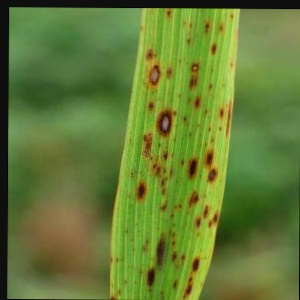Bacterial_Leaf_Blight: (153, 229, 169, 270), (222, 94, 235, 144), (153, 109, 174, 139), (131, 177, 151, 207), (147, 61, 163, 91), (185, 187, 204, 211), (140, 131, 155, 161), (143, 264, 158, 293), (186, 155, 199, 183), (201, 146, 216, 170), (181, 281, 196, 300), (208, 39, 221, 60), (206, 166, 219, 187), (189, 254, 202, 275), (210, 208, 223, 226), (193, 93, 203, 112), (192, 215, 204, 230), (201, 203, 211, 221), (170, 277, 181, 292), (216, 20, 226, 36), (190, 60, 201, 74), (217, 106, 226, 123), (202, 21, 212, 36), (169, 250, 179, 265), (160, 184, 169, 200), (159, 199, 169, 213), (165, 65, 174, 80), (206, 217, 215, 232), (184, 33, 193, 47), (185, 273, 197, 283), (168, 164, 175, 181), (145, 48, 154, 61), (154, 165, 162, 179), (146, 100, 155, 112), (138, 245, 150, 254), (158, 175, 167, 187), (206, 81, 216, 91), (164, 9, 173, 19), (227, 11, 236, 21), (161, 151, 170, 161), (169, 229, 178, 239), (168, 239, 178, 248), (113, 205, 123, 214), (107, 256, 115, 267), (107, 293, 119, 300), (156, 294, 170, 300), (205, 125, 214, 134), (208, 136, 217, 145), (121, 277, 130, 286), (178, 253, 188, 261), (138, 23, 146, 33), (137, 168, 145, 178), (147, 153, 155, 163), (221, 80, 229, 90), (177, 56, 184, 67), (179, 157, 186, 168), (171, 107, 178, 118), (228, 62, 236, 71), (176, 201, 184, 210), (169, 211, 177, 220), (170, 222, 179, 230), (178, 260, 187, 268), (175, 91, 183, 100), (126, 192, 134, 201), (144, 238, 152, 247), (161, 164, 167, 176), (195, 119, 203, 128), (181, 113, 188, 123), (132, 277, 139, 287), (116, 287, 123, 297), (183, 219, 190, 229), (202, 252, 209, 262), (130, 247, 138, 255), (209, 66, 216, 75), (203, 107, 210, 116), (114, 256, 121, 265), (186, 95, 192, 105), (187, 21, 194, 29), (217, 126, 224, 134), (196, 230, 203, 238), (156, 141, 163, 149), (129, 171, 136, 179), (199, 280, 206, 288), (151, 161, 157, 170), (170, 150, 176, 159), (181, 20, 188, 27), (138, 270, 145, 277), (161, 275, 168, 282), (158, 289, 165, 296), (198, 131, 205, 138), (187, 131, 193, 139), (125, 228, 131, 235), (137, 229, 143, 235)
